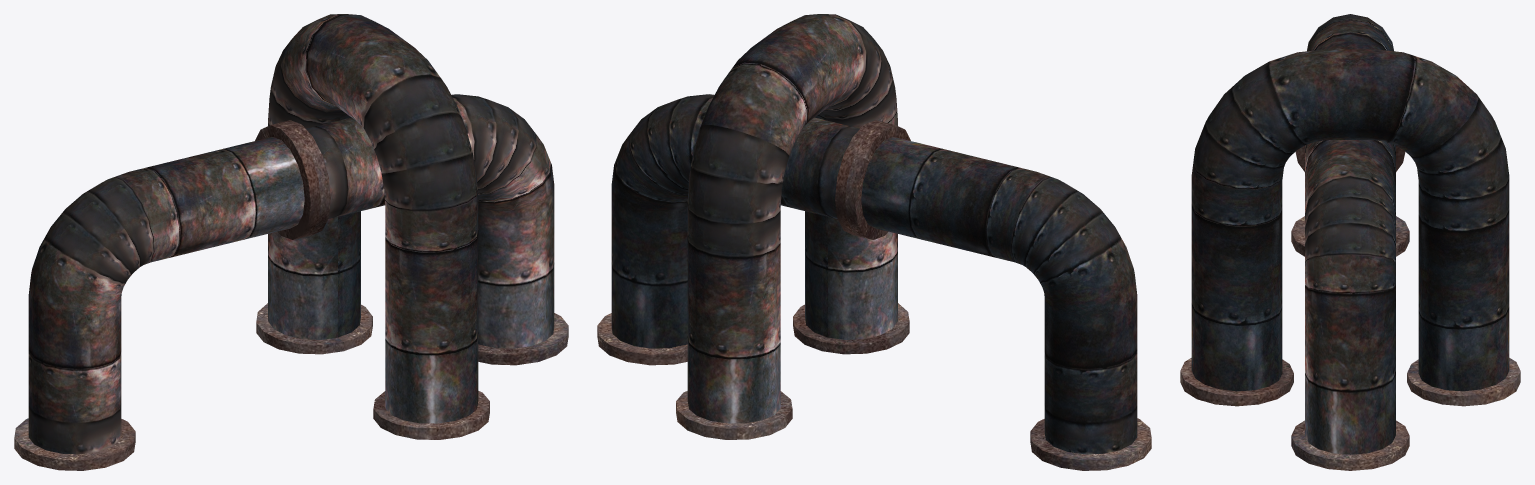
The model's file is Pipe.fbx.
The picture shows the model from 3 angles, left to right: view 1: azimuth 30°, elevation 25°; view 2: azimuth 150°, elevation 25°; view 3: azimuth 270°, elevation 25°; orthographic projection. The views are drawn at different scales.
Visible parts, largest first — view 1: Pipe; view 2: Pipe; view 3: Pipe.
Part boxes in pixels (x1,y1,x2,y2): Pipe: [14, 14, 568, 470]; Pipe: [597, 14, 1151, 470]; Pipe: [1180, 14, 1520, 470].
Size of the model in its own units: 133 by 80 by 75.1.
